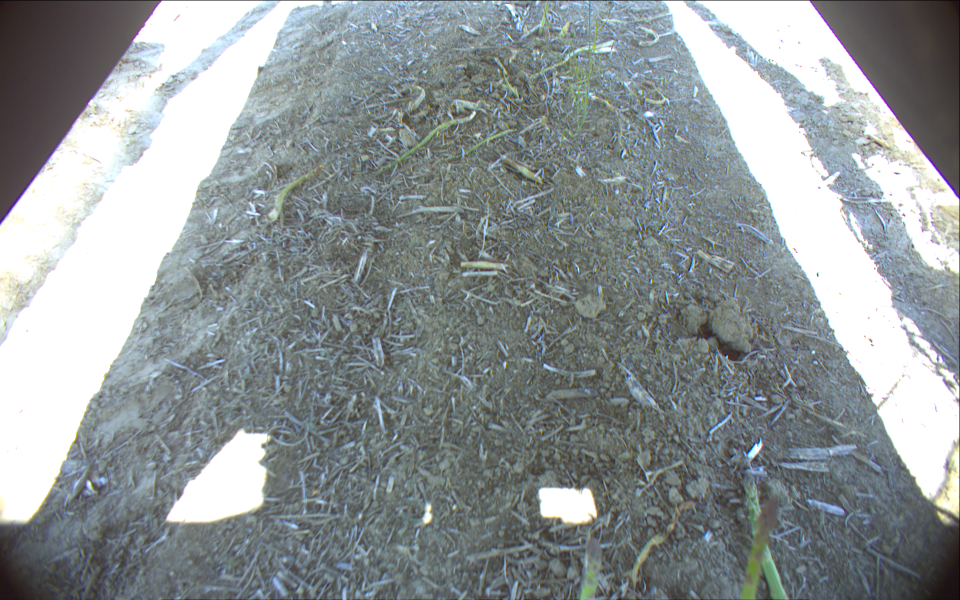aspa: (737, 491, 780, 600), (576, 529, 602, 600)
